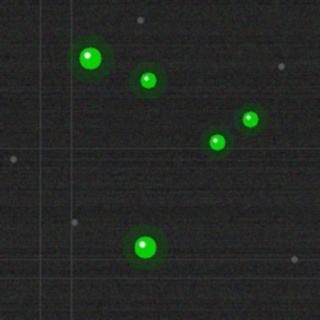green_normal: (77, 45, 103, 71), (132, 234, 158, 260), (240, 109, 260, 129), (138, 70, 158, 90), (207, 132, 227, 152)
